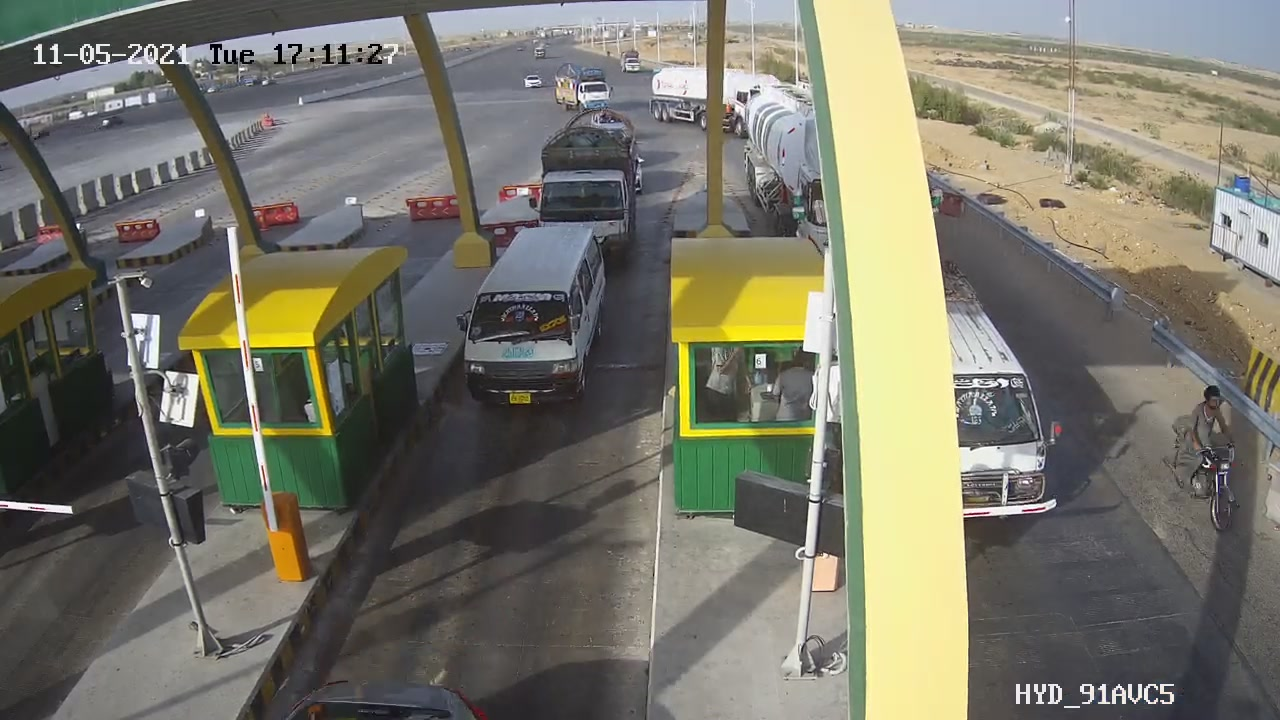F2: (443, 211, 629, 430)
